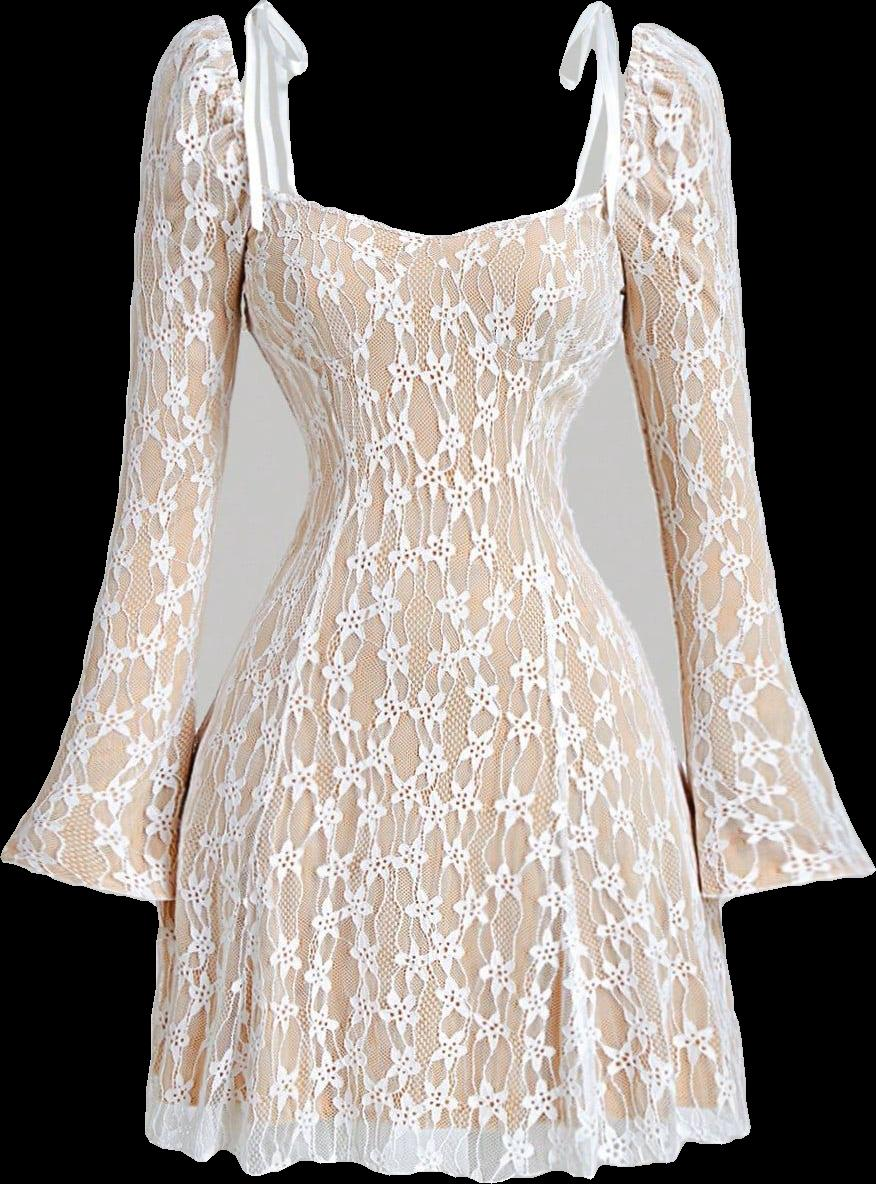Bodice: (240, 194, 626, 477)
Hemline: (139, 1120, 755, 1183)
Neckline: (253, 188, 618, 242)
Skirt: (144, 476, 749, 1182)
Sleeve: (596, 22, 874, 908), (1, 15, 262, 910)
Sleeveline: (214, 14, 268, 321), (597, 18, 647, 333)
